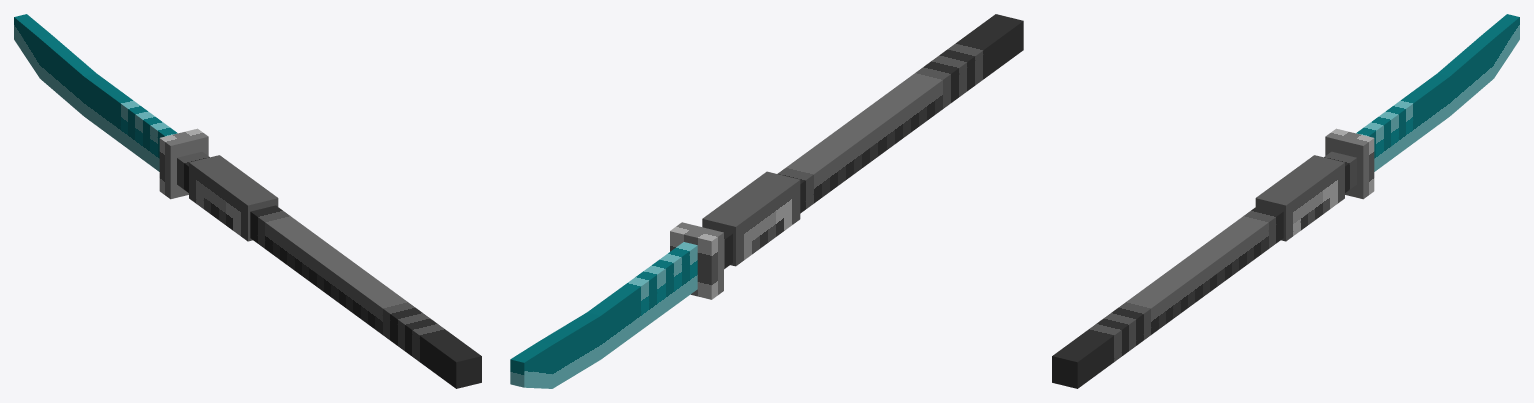
Rendered from naginata.fbx.
3 views of the same model, side by side, from view 1: azimuth 30°, elevation 25°; view 2: azimuth 150°, elevation 25°; view 3: azimuth 330°, elevation 25° (orthographic). The views are drawn at different scales.
Visible parts, largest first — view 1: cube, cube_3, cube_1, cube_2; view 2: cube, cube_3, cube_1, cube_2; view 3: cube, cube_3, cube_1, cube_2.
Boxes of the visible parts, x1,y1,x2,y2 form: cube: [177, 151, 481, 388]; cube_3: [14, 14, 177, 171]; cube_1: [189, 155, 278, 241]; cube_2: [159, 128, 208, 199]; cube: [704, 14, 1023, 269]; cube_3: [510, 242, 697, 388]; cube_1: [702, 171, 800, 266]; cube_2: [670, 222, 723, 299]; cube: [1052, 151, 1356, 388]; cube_3: [1356, 14, 1519, 171]; cube_1: [1255, 155, 1344, 241]; cube_2: [1325, 128, 1374, 199].
Size of the model in its own units: 18.75 by 25.94 by 381.
1 material, 1 textured.
